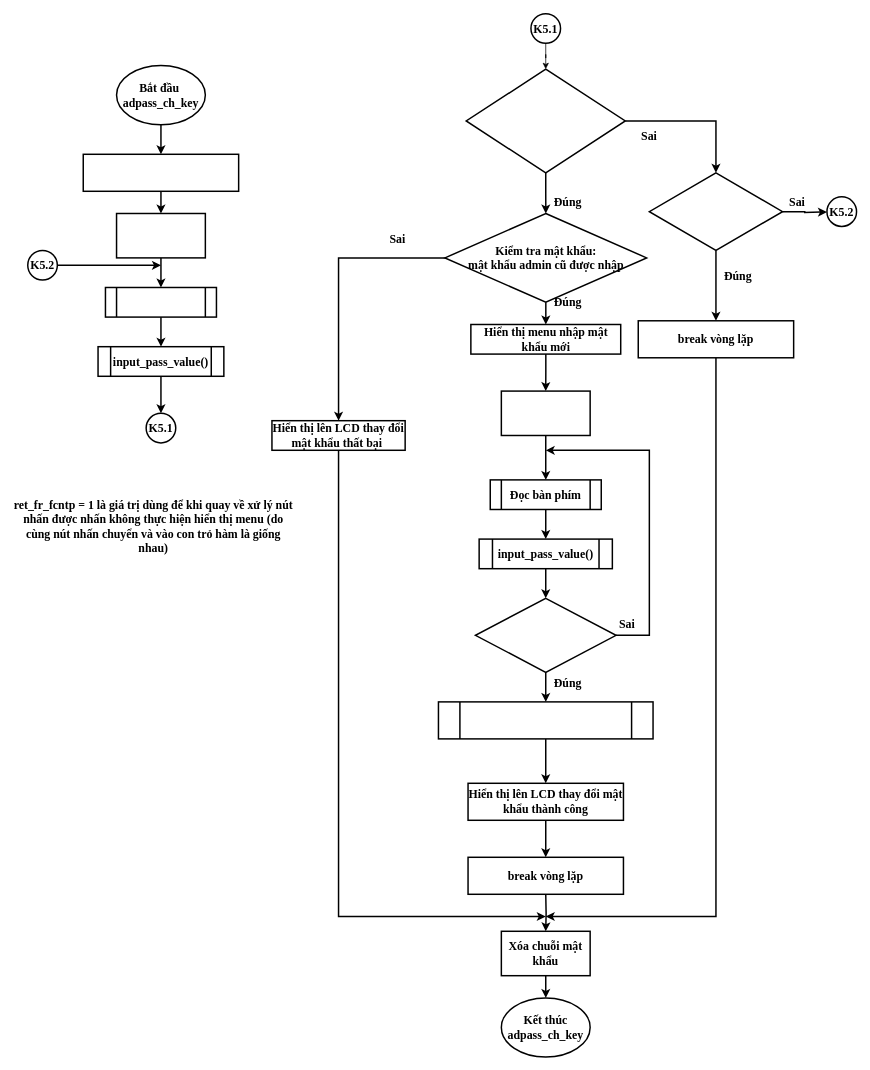
The diagram is 870 pixels wide and 1070 high, and some of its shapes have lost their labels. Each missing label, with the centre of its shape:
Hiển thị menu nhập mật khẩu cũ.: [160,172]
Phím "B" được nhấn hoặc độ dài mật khẩu nhập đạt max: [545,120]
Phím "D" được nhấn: [715,211]
ret_fr_fcntp = 1: [160,235]
Thay đổi mật khẩu admin: [545,720]
Xóa chuỗi mật khẩu vừa nhập: [545,413]
Đọc phím nhấn: [160,301]
Độ dài mật khẩu bằng 8: [545,635]
